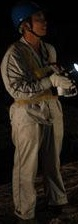boots: (47, 202, 77, 213)
gloves: (49, 72, 76, 98), (67, 73, 78, 101)
hard-hat: (11, 0, 43, 27)
